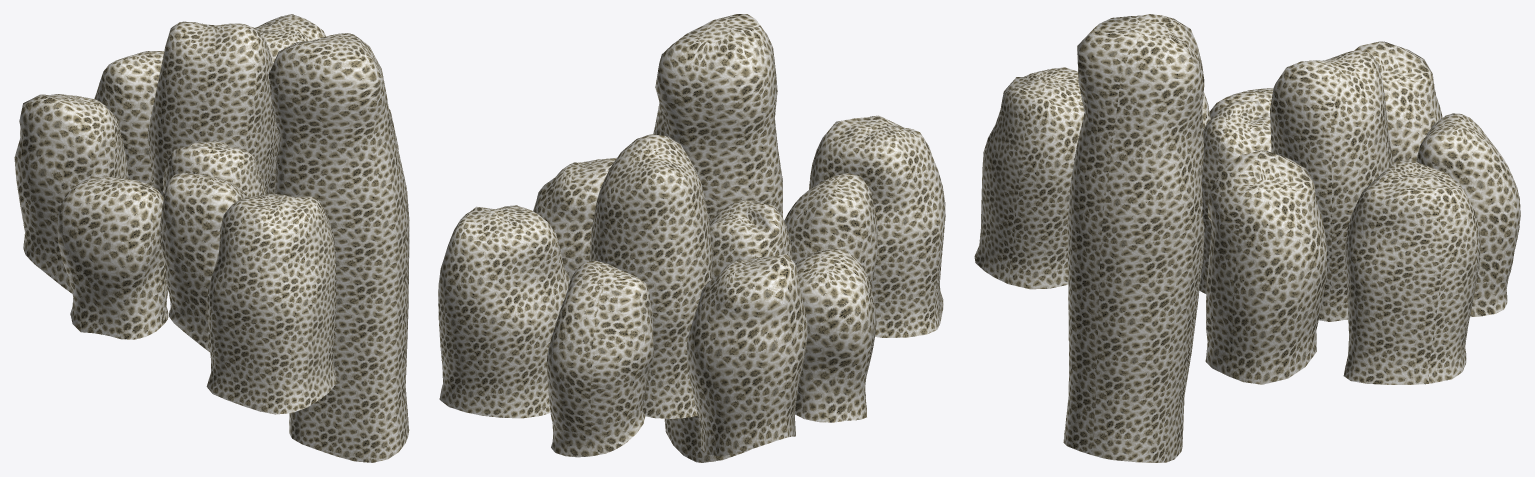
Rendered from plant_47.fbx.
3 renders of one model, left to right at view 1: azimuth 30°, elevation 25°; view 2: azimuth 150°, elevation 25°; view 3: azimuth 270°, elevation 25°, orthographic. The views are drawn at different scales.
Parts seen in each view (by area): view 1: ChangShanHu17; view 2: ChangShanHu17; view 3: ChangShanHu17.
Boxes of the visible parts, x1,y1,x2,y2 form: ChangShanHu17: (14,14,409,462); ChangShanHu17: (438,14,945,462); ChangShanHu17: (974,14,1520,462).
Bounding box in the file's own units: 6.94 × 7.89 × 9.25.
